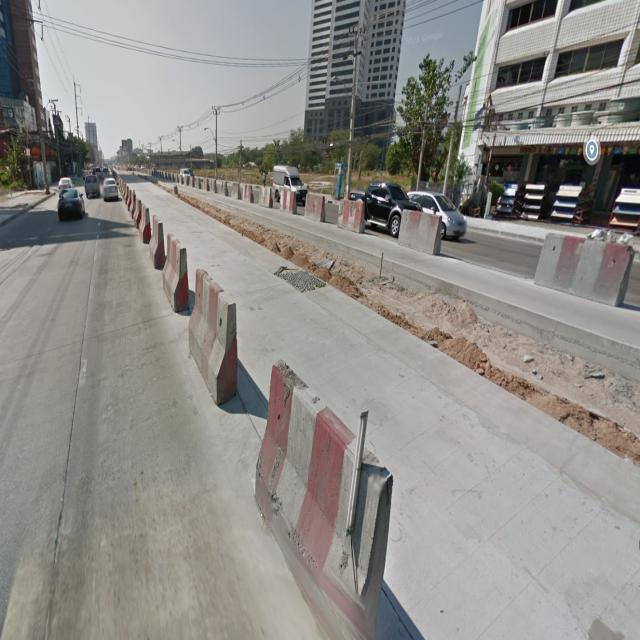fallen_object: (240, 340, 400, 640), (165, 260, 250, 429), (525, 210, 630, 327), (160, 159, 314, 214), (155, 215, 194, 324), (396, 199, 446, 267), (112, 177, 155, 256), (335, 176, 376, 239)
